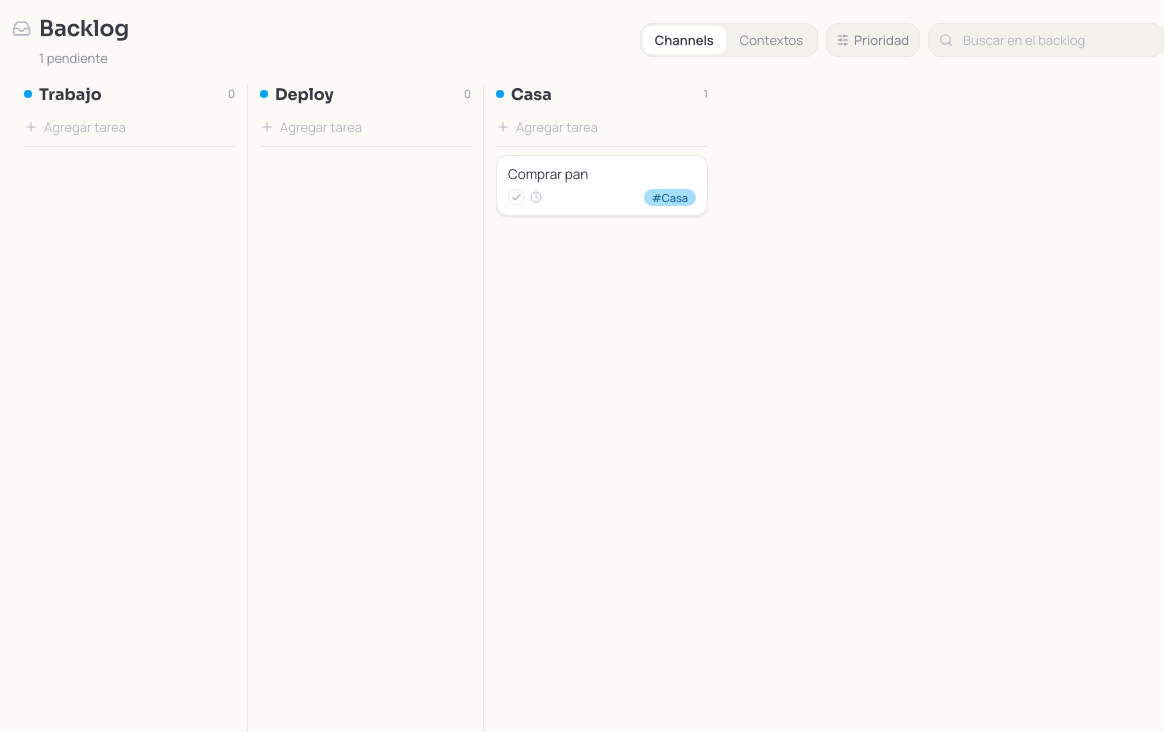
BacklogView · un grupo por columna › una búsqueda sin resultados lo dice, en vez de dejar el tablero vacío
Expected: the element with class "backlog__col" showing "Trabajo 0 Agregar tarea" is shown, [12,84,248,731]
Type "release" into the field labelled "Buscar en el backlog" at (1057, 40), box [961,30,1153,50]
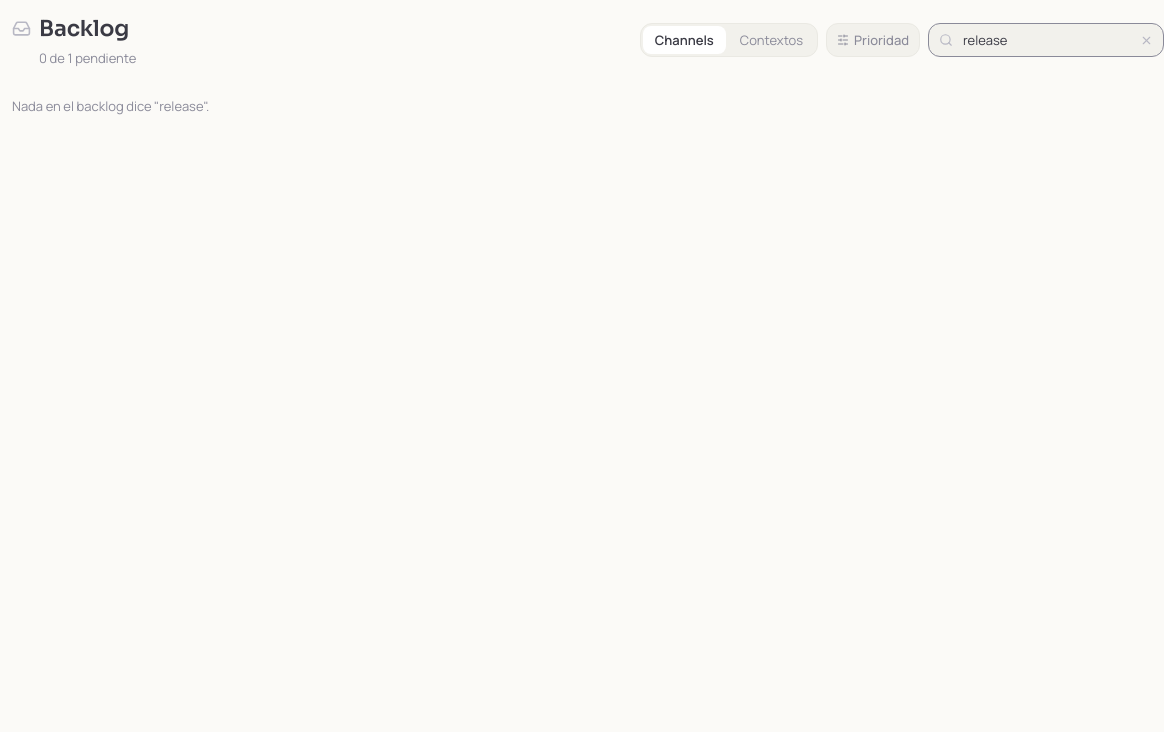
Expected: the text "Nada en el backlog dice \"release\"." is shown, [12,96,209,114]
